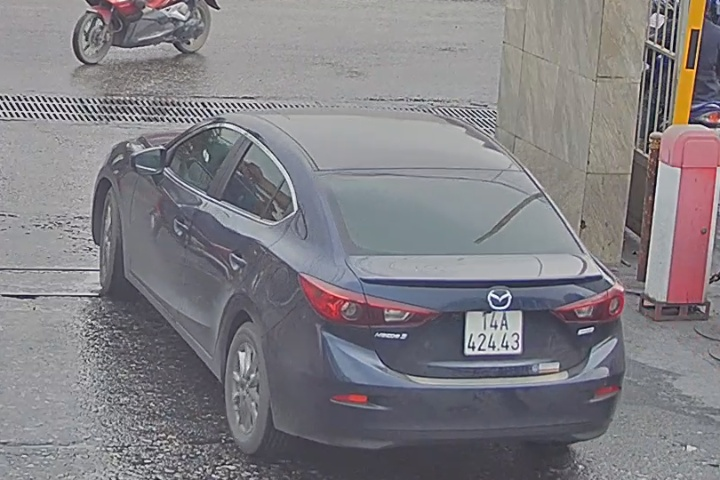vehicle plate: (456, 304, 531, 363)
